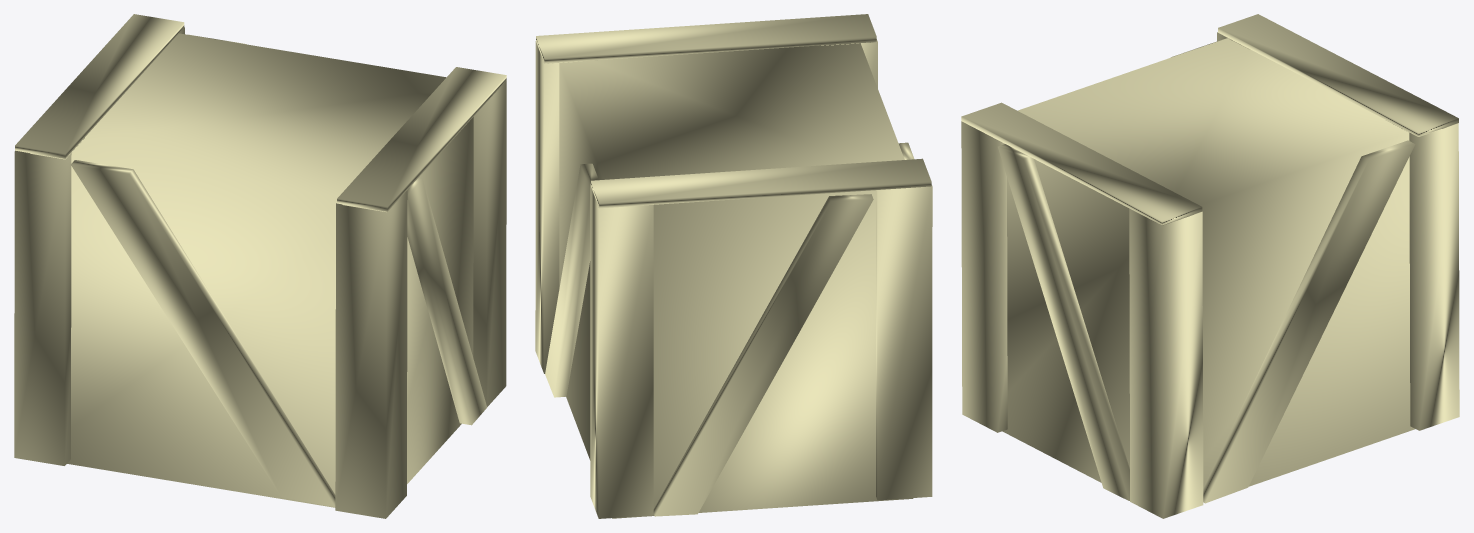
Rendered from big box.fbx.
3 views of the same model, side by side, from view 1: azimuth 30°, elevation 25°; view 2: azimuth 150°, elevation 25°; view 3: azimuth 270°, elevation 25° (orthographic). The views are drawn at different scales.
Parts seen in each view (by area): view 1: rdmobj1143.002; view 2: rdmobj1143.002; view 3: rdmobj1143.002.
Boxes of the visible parts, box(x1,y1,x2,y2) form: rdmobj1143.002: box(14, 14, 506, 518); rdmobj1143.002: box(535, 14, 932, 518); rdmobj1143.002: box(961, 14, 1459, 518).
Bounding box in the file's own units: 135 × 92.92 × 138.
